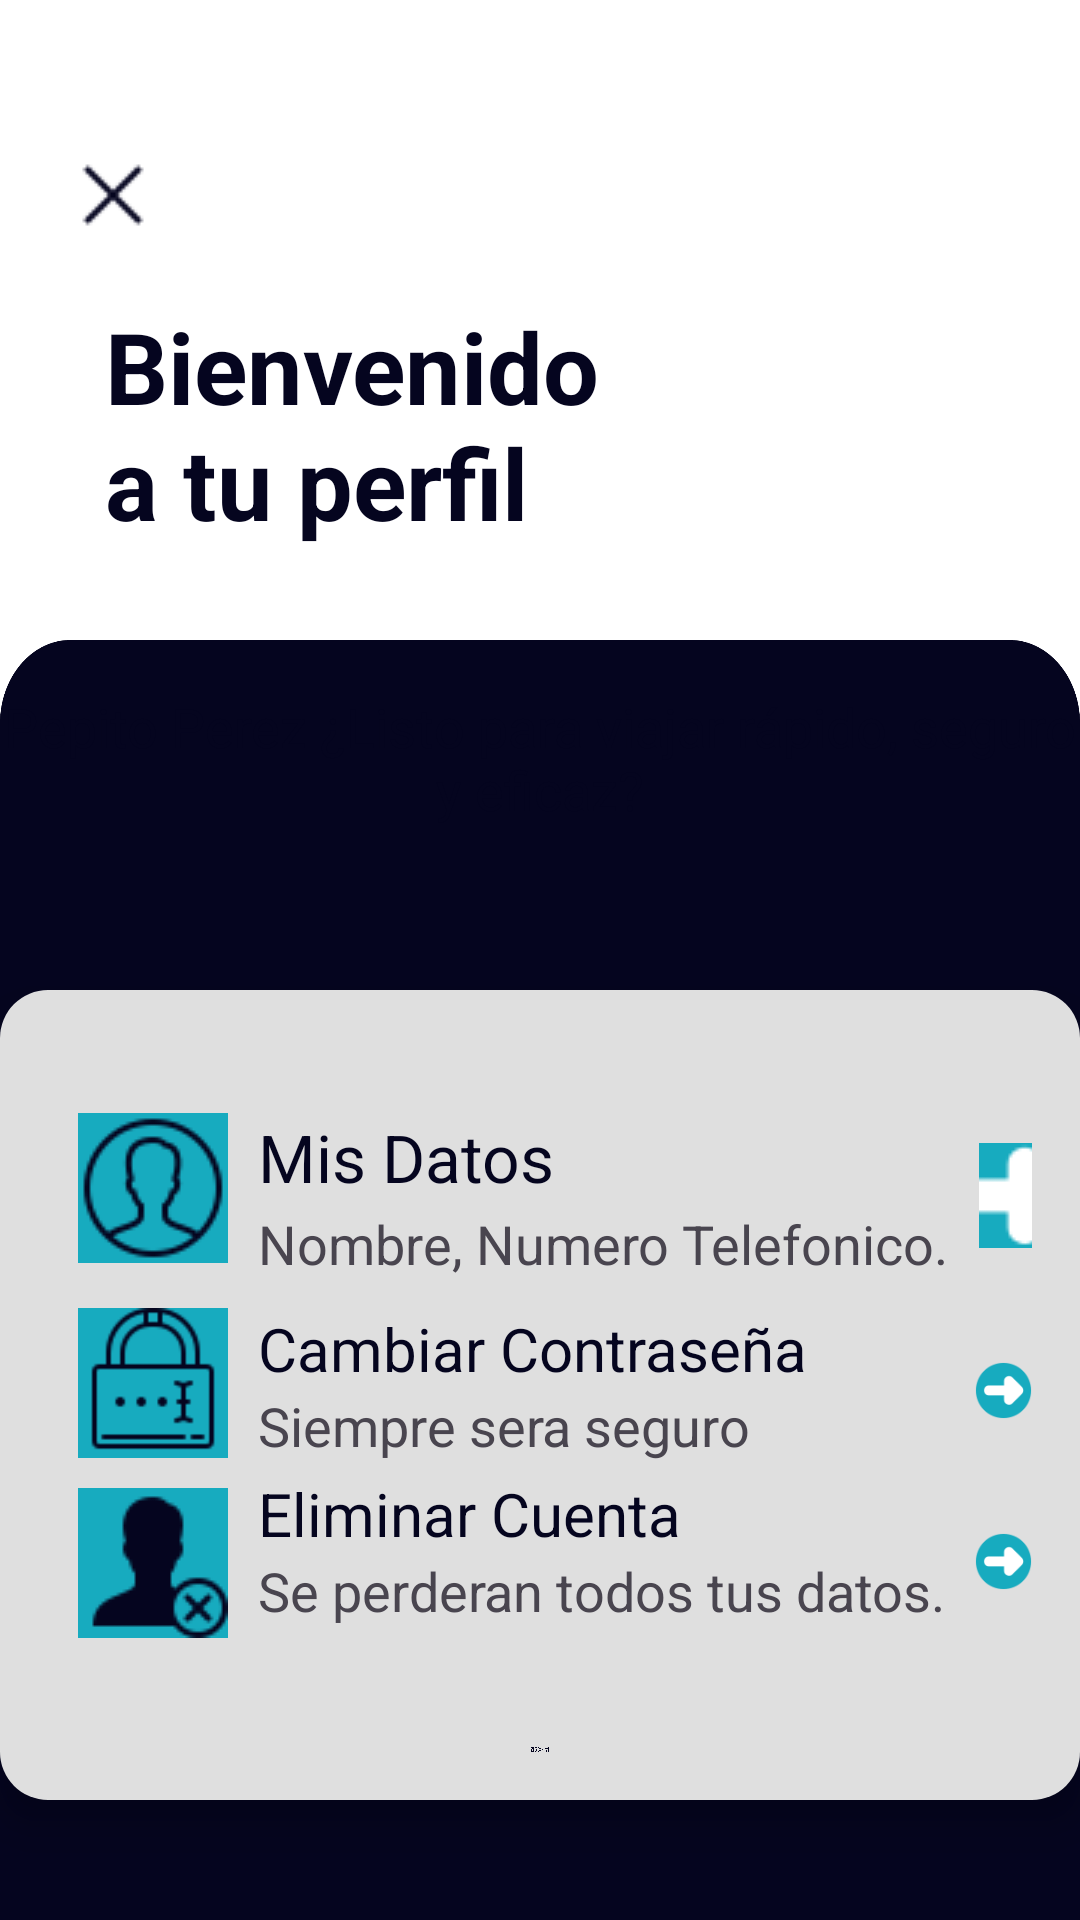

Icon bounding boxes for this 1080x1920 phone screenshot, format (x1=x1, y1=y1, x2=x2, y2=y2):
candado: (x1=78, y1=1308, x2=228, y2=1458)
cerrar: (x1=82, y1=164, x2=144, y2=226)
